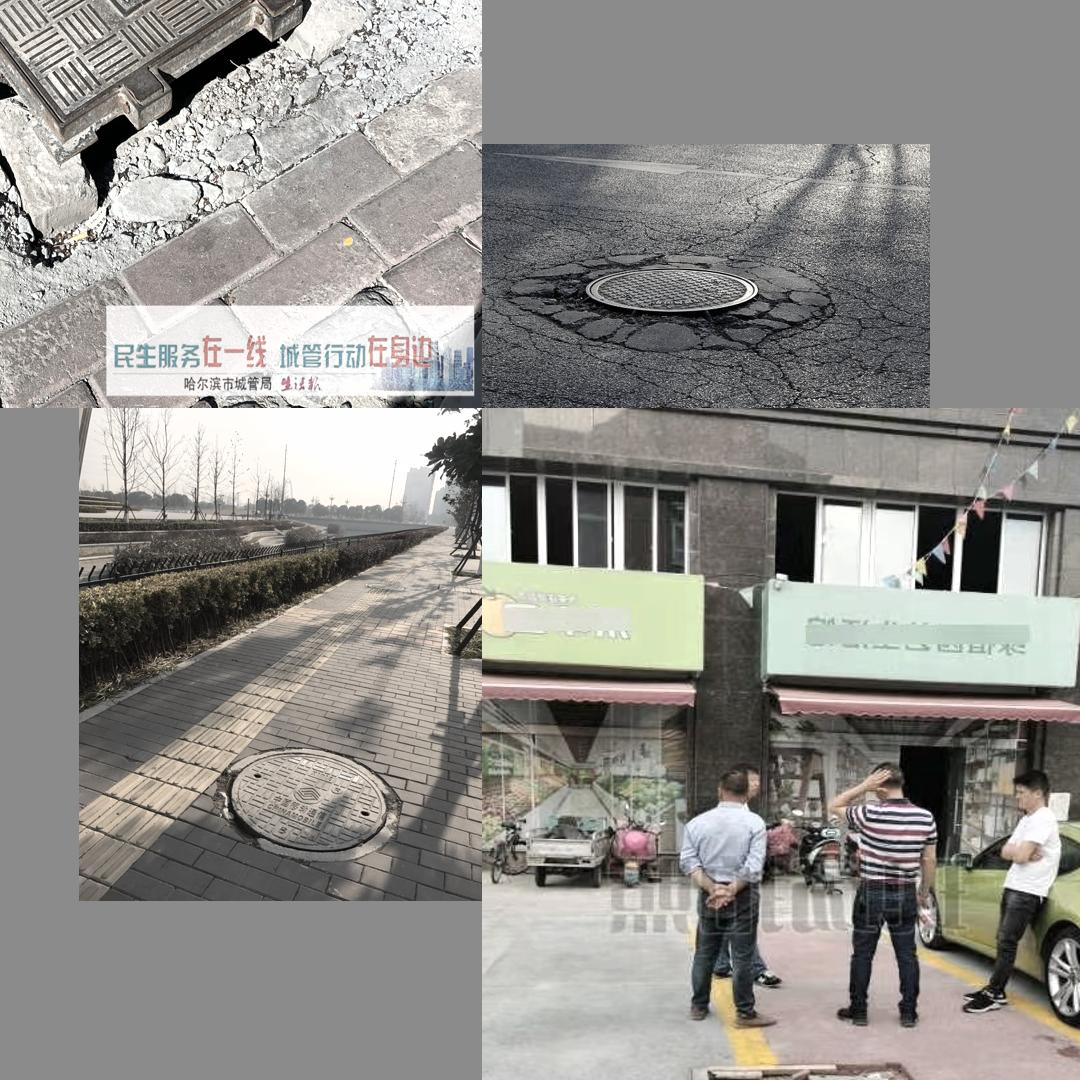circle: (0, 0, 439, 264), (537, 249, 844, 365), (214, 747, 404, 861), (692, 1064, 960, 1080)
